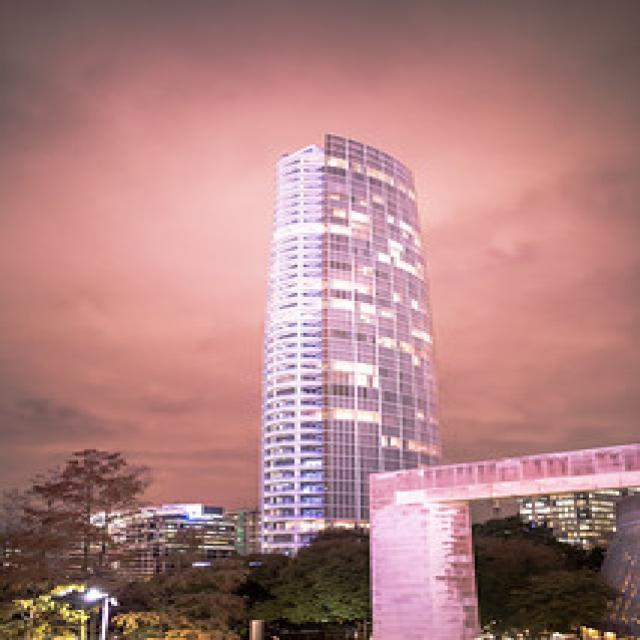building: (261, 128, 445, 560)
